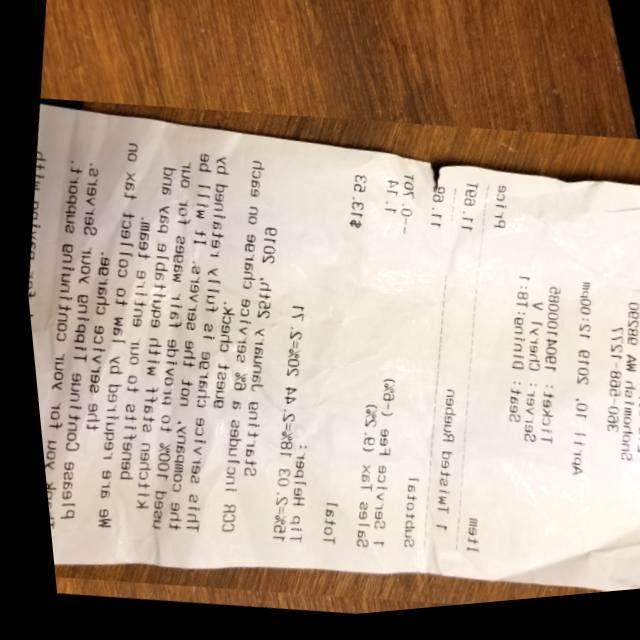Paper: (8, 55, 640, 640)
